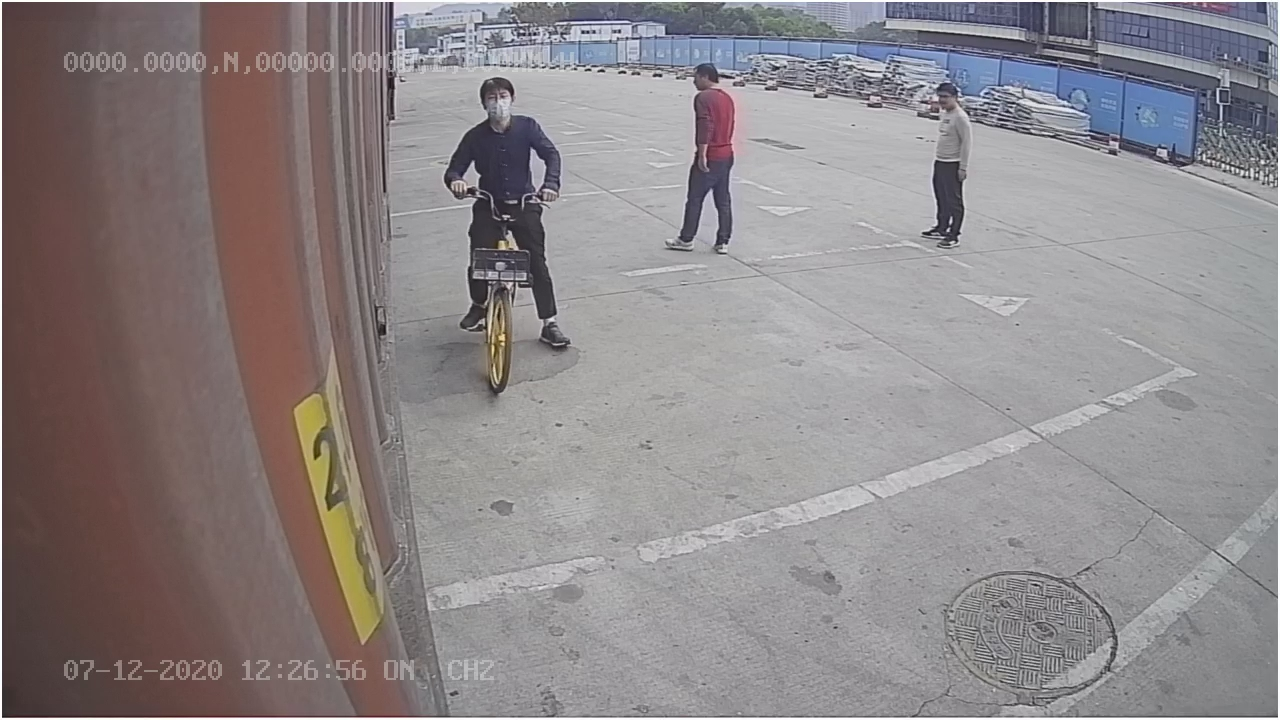person: (653, 58, 742, 258)
